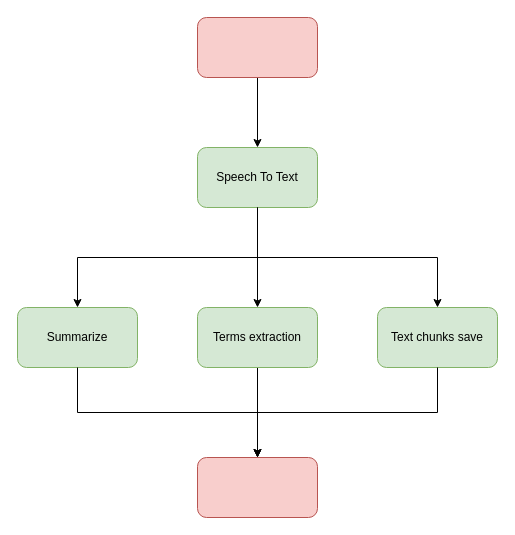
This 515x535 diagram has some shape labels left out. Each missing label, with the centre of its shape:
Primary task: (257,47)
Primary task completed: (257,487)
